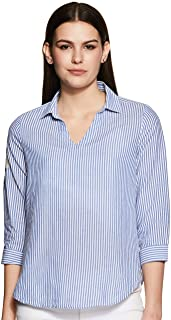shirt: (2, 80, 171, 311)
